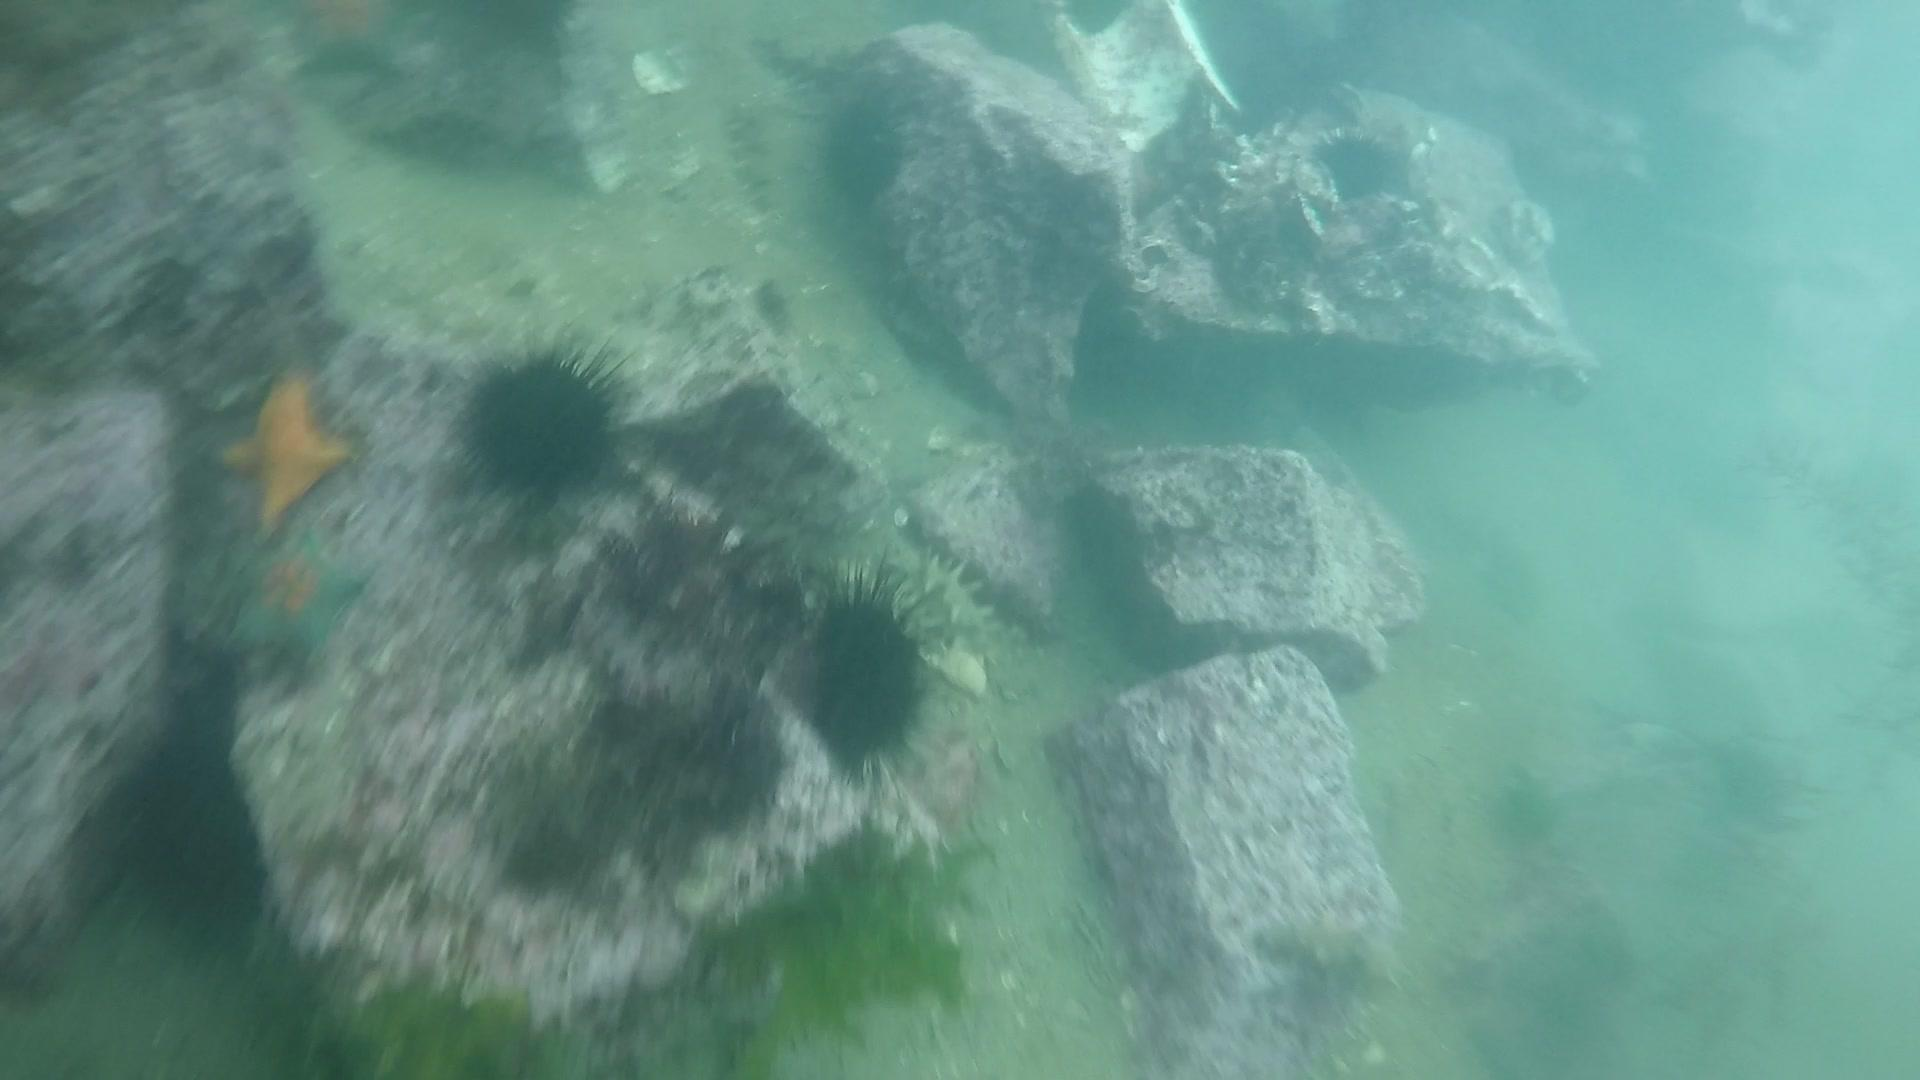echinus: (443, 320, 649, 530), (804, 554, 960, 794), (1309, 120, 1416, 207)
holothurian: (881, 542, 1002, 666), (723, 92, 783, 223)
starfish: (214, 371, 364, 546), (219, 516, 376, 680), (277, 1, 422, 86)
